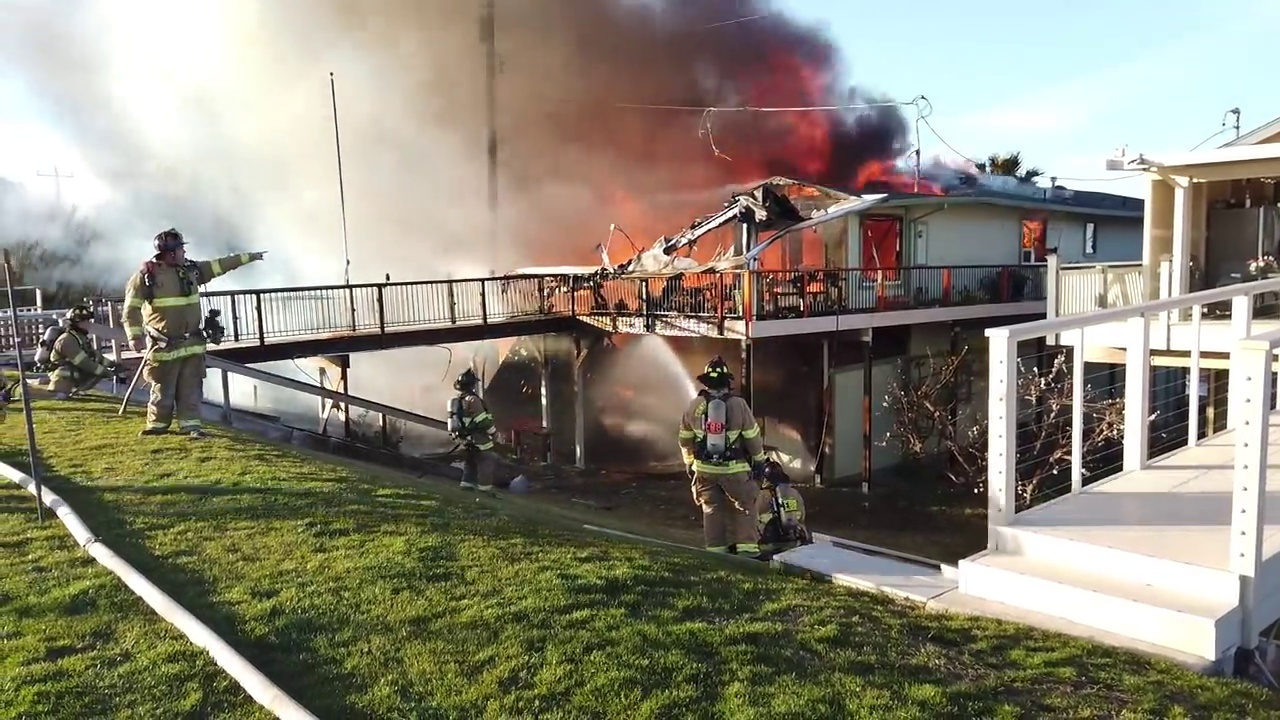fire: (862, 219, 896, 267), (1019, 219, 1046, 247), (803, 230, 824, 265), (758, 242, 781, 269)
smoke: (1, 1, 346, 279), (345, 1, 875, 181), (351, 185, 727, 272), (353, 354, 449, 413), (230, 373, 318, 427)
